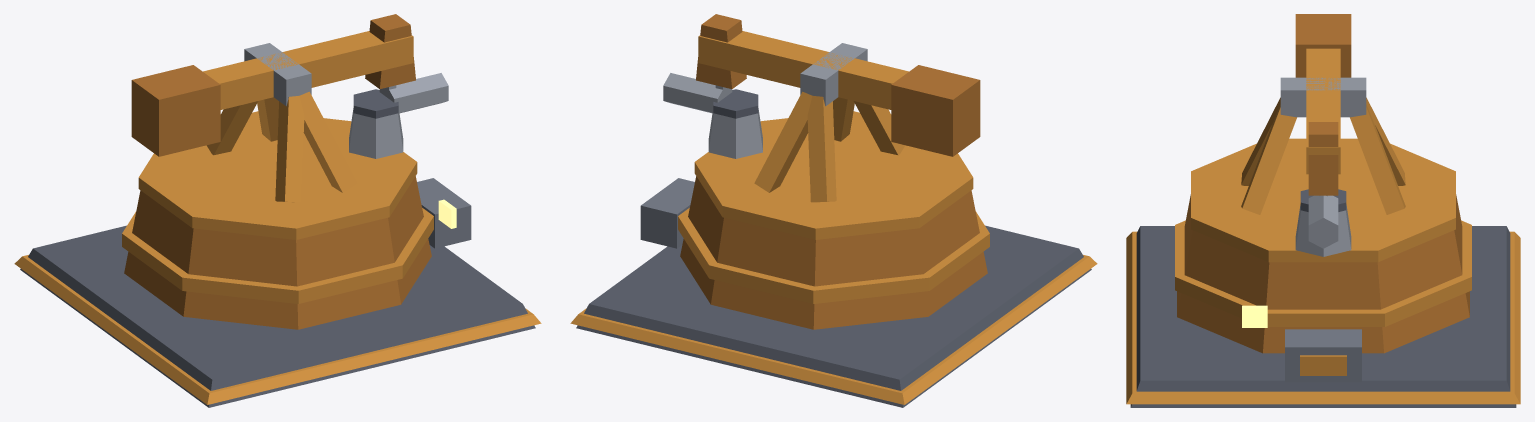
The model's file is extractor.glb.
3 renders of one model, left to right at view 1: azimuth 30°, elevation 25°; view 2: azimuth 150°, elevation 25°; view 3: azimuth 270°, elevation 25°, orthographic. The views are drawn at different scales.
Visible parts, largest first — view 1: Body, RockerMesh; view 2: Body, RockerMesh; view 3: Body, RockerMesh, GlowLight.
Boxes of the visible parts, <box> form: Body: <box>14,43,541,407</box>; RockerMesh: <box>131,14,415,156</box>; Body: <box>570,43,1097,407</box>; RockerMesh: <box>696,14,980,156</box>; Body: <box>1126,77,1520,407</box>; RockerMesh: <box>1295,14,1351,196</box>; GlowLight: <box>1242,305,1267,327</box>.
Size of the model in its own units: 0.948 by 0.655 by 0.92.
